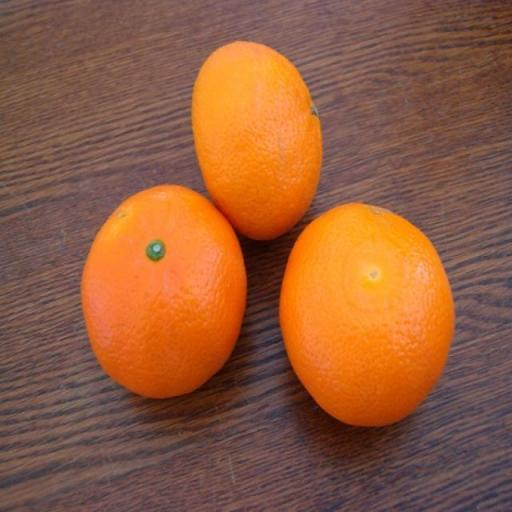fruit: (281, 204, 453, 425), (80, 185, 245, 396), (192, 41, 320, 237)
